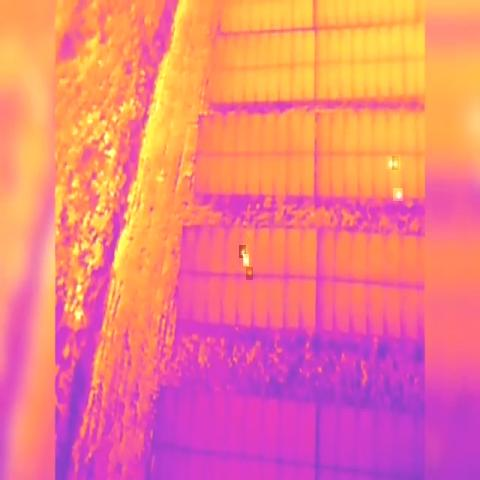fault: (393, 188, 403, 201), (386, 156, 394, 169), (392, 156, 399, 170), (239, 245, 246, 258), (246, 267, 253, 280), (243, 254, 249, 266)
